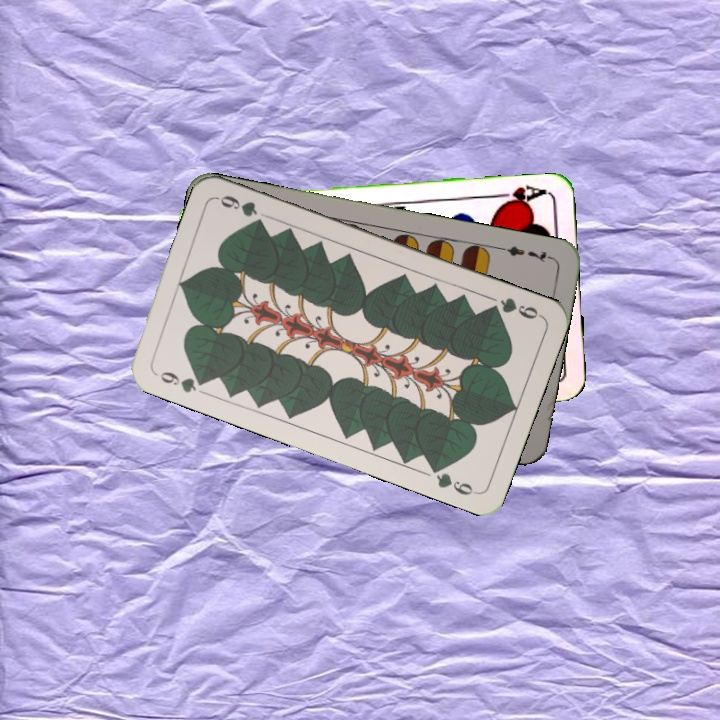E7: (496, 242, 555, 265)
G9: (484, 293, 544, 322), (156, 367, 210, 396)
HA: (492, 181, 551, 210)
